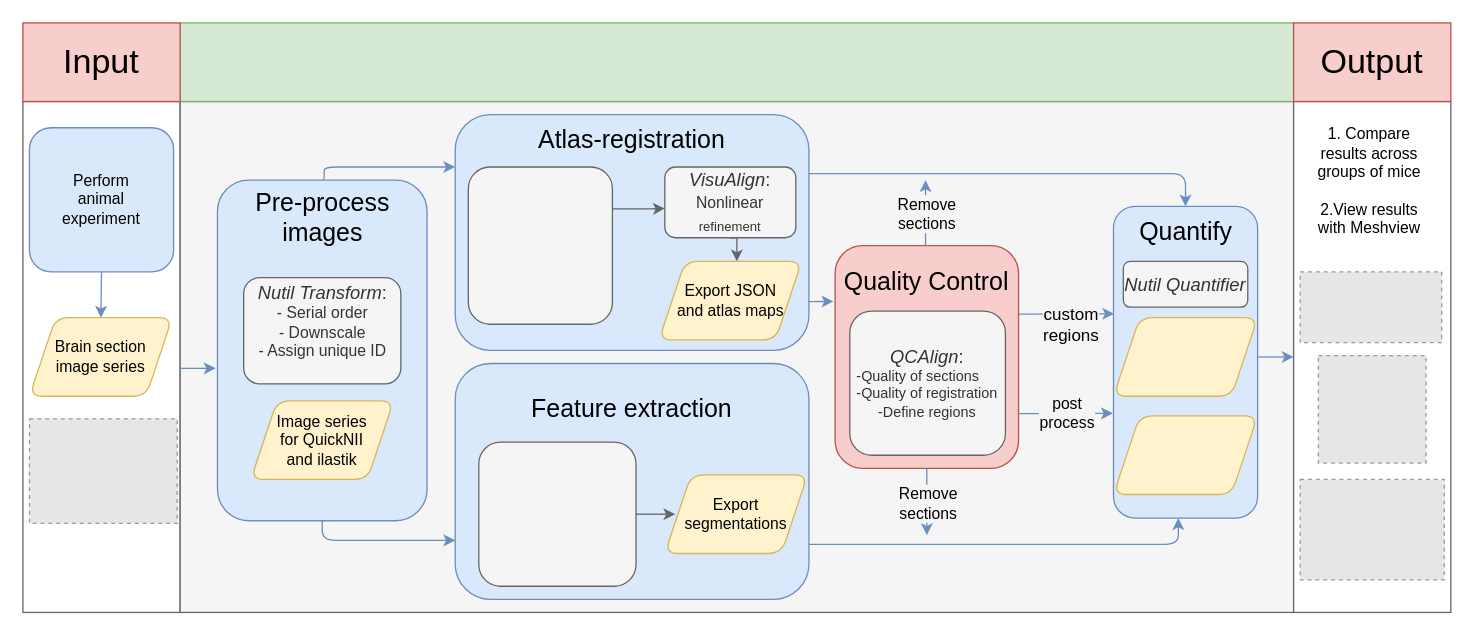
Some shapes in this 1474 by 635 pixel diagram are drawn without their labels. Grey dashed boxes stand in for pictures. The centre of each missing label's shape, as x and y in pixels:
"Coordinates" goes at point 1185,455.
"Ilastik: Feature extraction (or use another software)" goes at point 556,513.
"Quantification per region" goes at point 1185,356.
"QuickNII: Linear Registration (Optional: DeepSlice )" goes at point 539,245.
"QUINT workflow" goes at point 736,62.
